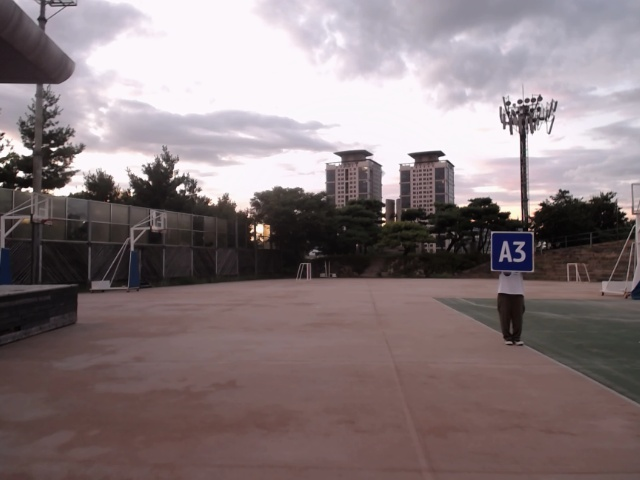delivery_a3: (490, 231, 533, 272)
